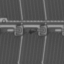dust: (28, 29, 33, 34)
